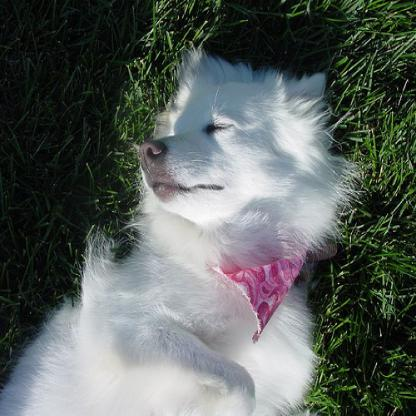dog: (0, 46, 357, 415)
